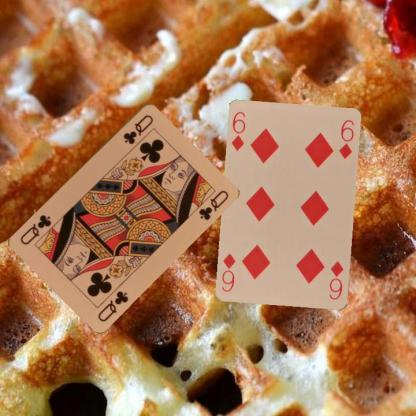6d: (327, 258, 346, 302), (229, 109, 247, 153)
Qc: (95, 288, 130, 323), (121, 112, 155, 146)
